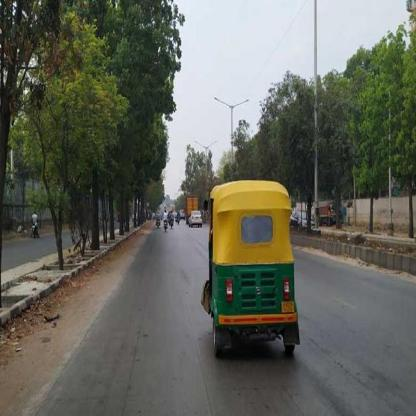auto-rikshaw: (202, 184, 307, 374)
